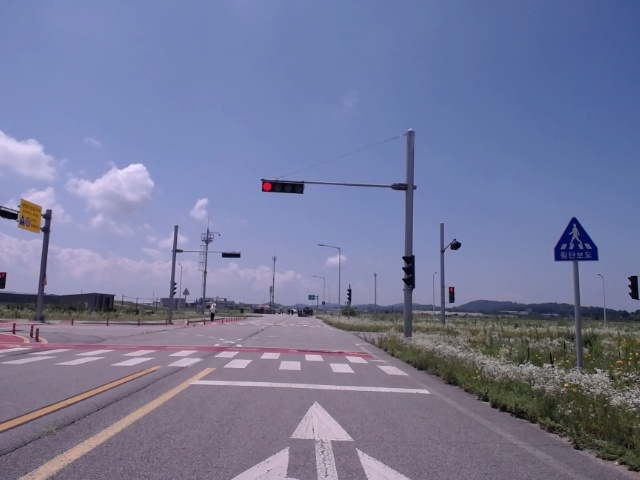red_4: (262, 182, 303, 194)
